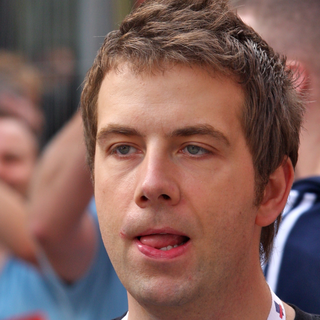eye: (169, 138, 222, 166), (103, 135, 148, 164)
